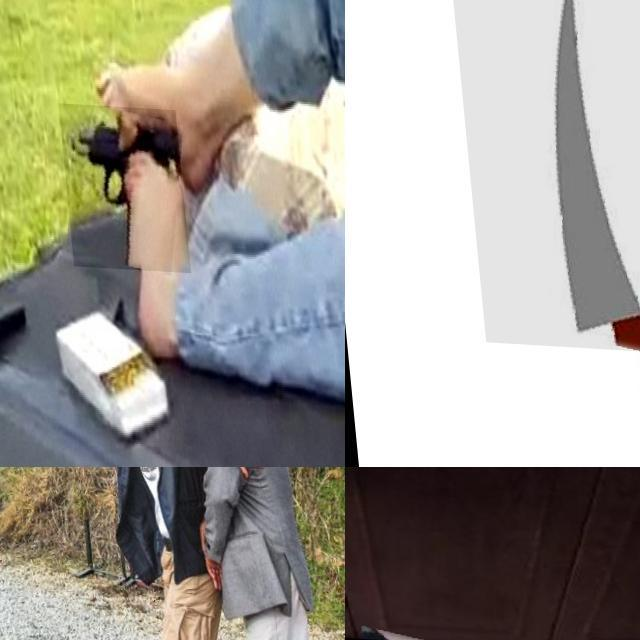-: (447, 0, 640, 352)
gun-knife-thesis - v11 Yolov5 augmented: (54, 102, 184, 270), (14, 467, 57, 485)
